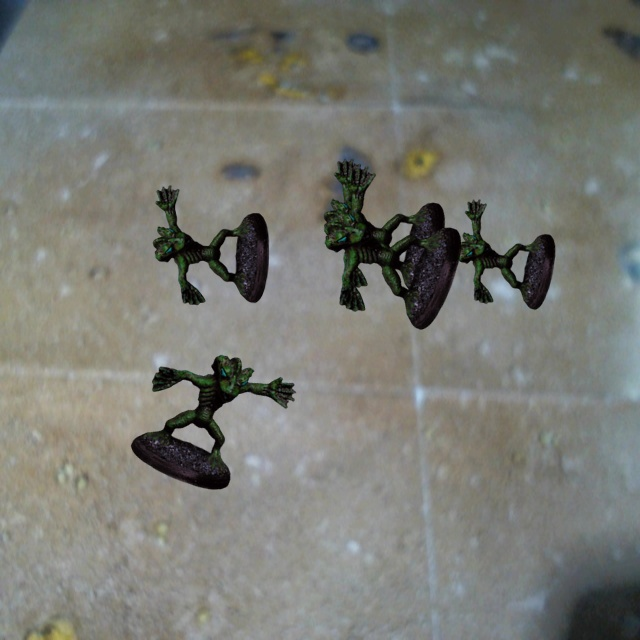pieza_juego: (325, 165, 460, 329), (131, 355, 295, 489), (324, 158, 444, 295), (153, 185, 268, 304), (457, 199, 554, 309)
